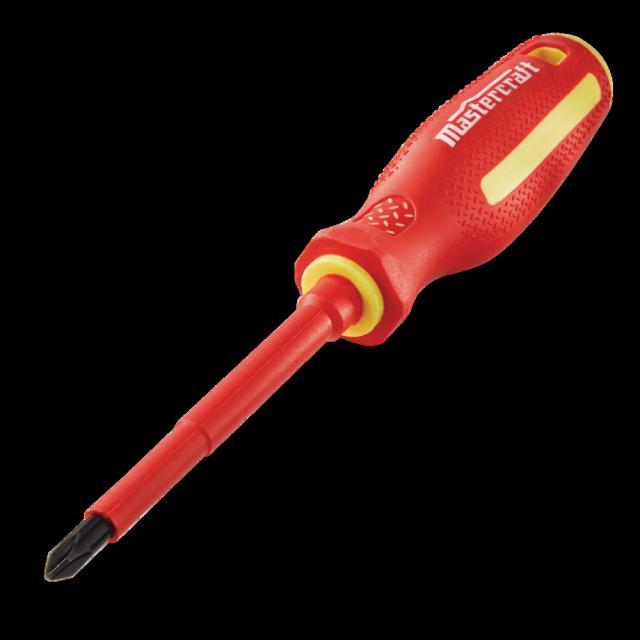screwdriver: (42, 32, 617, 584)
